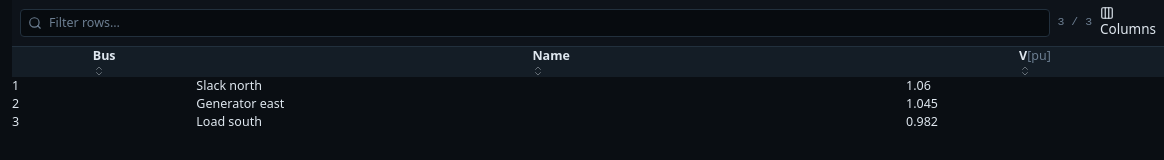
Test: DataTable › shows an empty state when nothing matches
The width and height of the screenshot is (1164, 160).
Type "zzz" into the search field labelled "Filter rows…" at (535, 23), box [20, 9, 1050, 37]
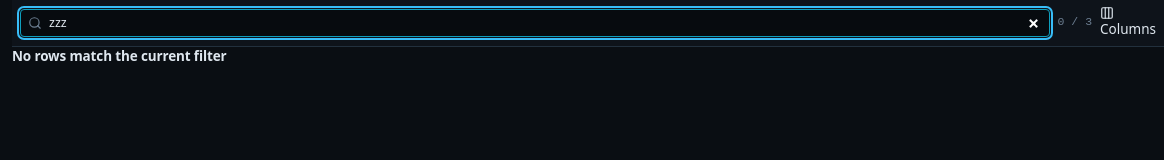
Expected: the heading "No rows match the current filter" is shown, [12, 47, 226, 65]
